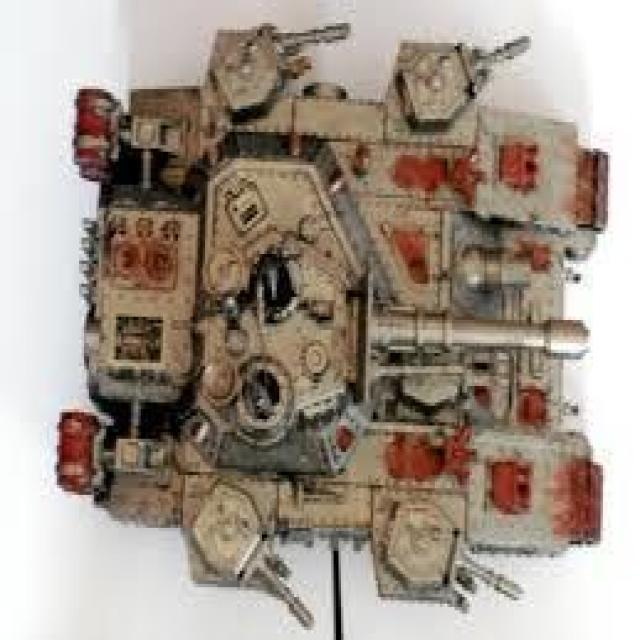Tanks: (66, 38, 612, 586)
